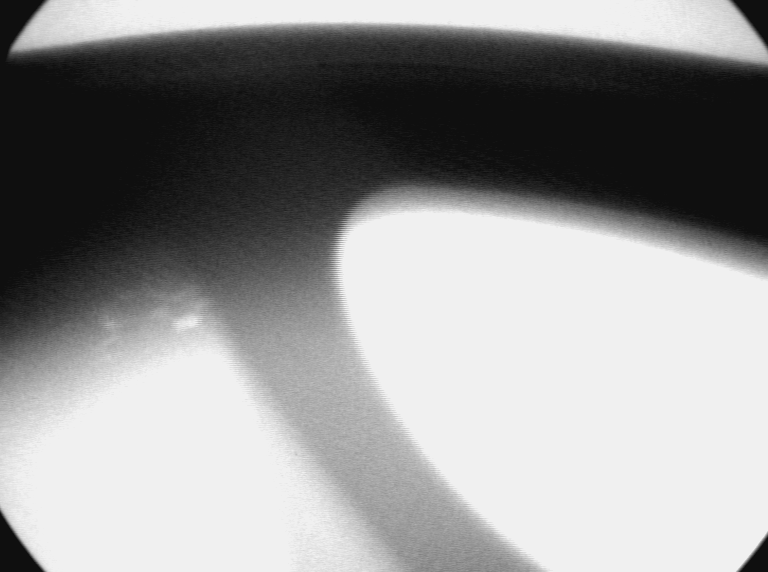defect: (93, 308, 123, 366)
